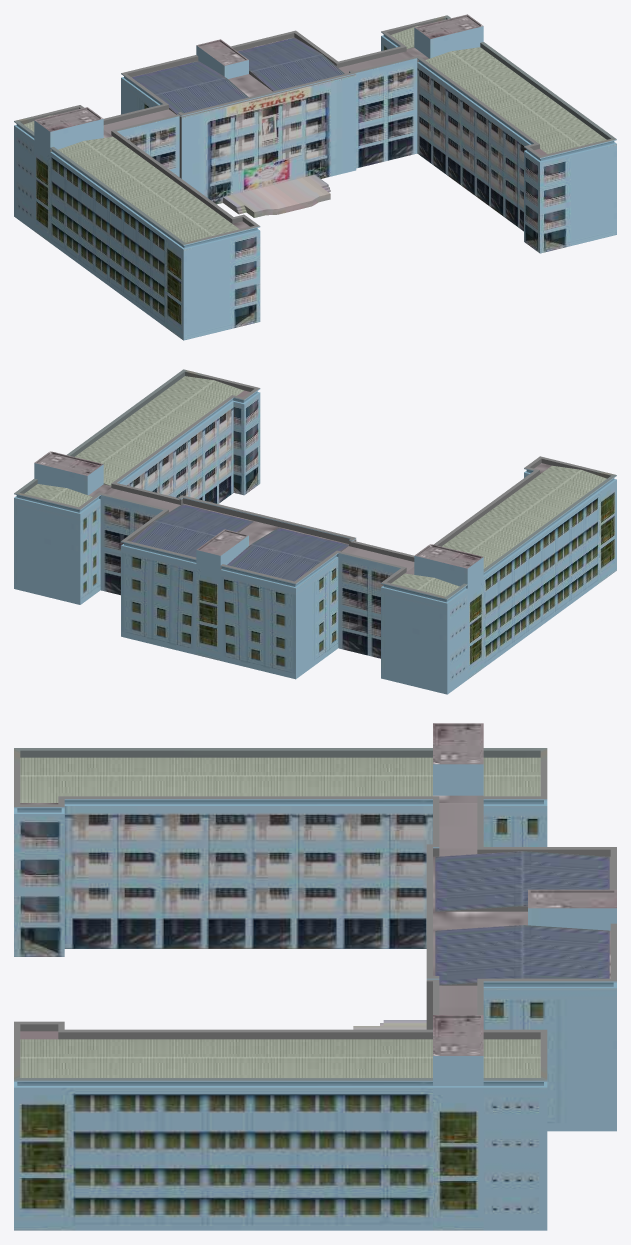
3 views of the same model, one above another, from view 1: azimuth 30°, elevation 25°; view 2: azimuth 150°, elevation 25°; view 3: azimuth 270°, elevation 25° (orthographic). The views are drawn at different scales.
Visible parts, largest first — view 1: HN793_LyThaiToHighSchool; view 2: HN793_LyThaiToHighSchool; view 3: HN793_LyThaiToHighSchool.
Boxes of the visible parts, x1,y1,x2,y2 form: HN793_LyThaiToHighSchool: [14, 14, 616, 340]; HN793_LyThaiToHighSchool: [14, 369, 616, 694]; HN793_LyThaiToHighSchool: [14, 723, 616, 1230].
Size of the model in its own units: 62 by 15.2 by 47.5.
1 material, 1 textured.
